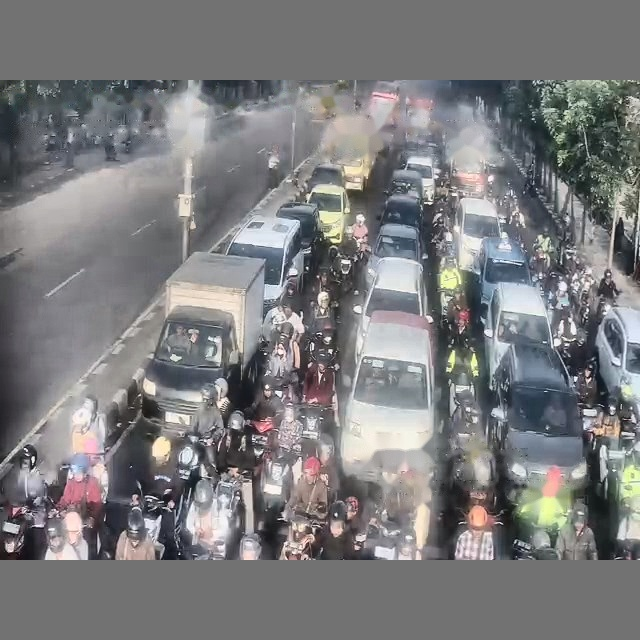Mobil: (340, 310, 435, 480), (487, 344, 587, 490), (482, 282, 558, 389), (353, 257, 430, 360), (226, 215, 303, 316), (473, 235, 534, 316), (365, 223, 427, 289), (595, 306, 639, 397), (453, 197, 500, 270), (275, 201, 322, 270), (307, 184, 350, 244), (377, 193, 423, 232), (403, 155, 435, 204), (384, 169, 423, 205), (306, 163, 346, 191)
Truk: (141, 252, 264, 432)
